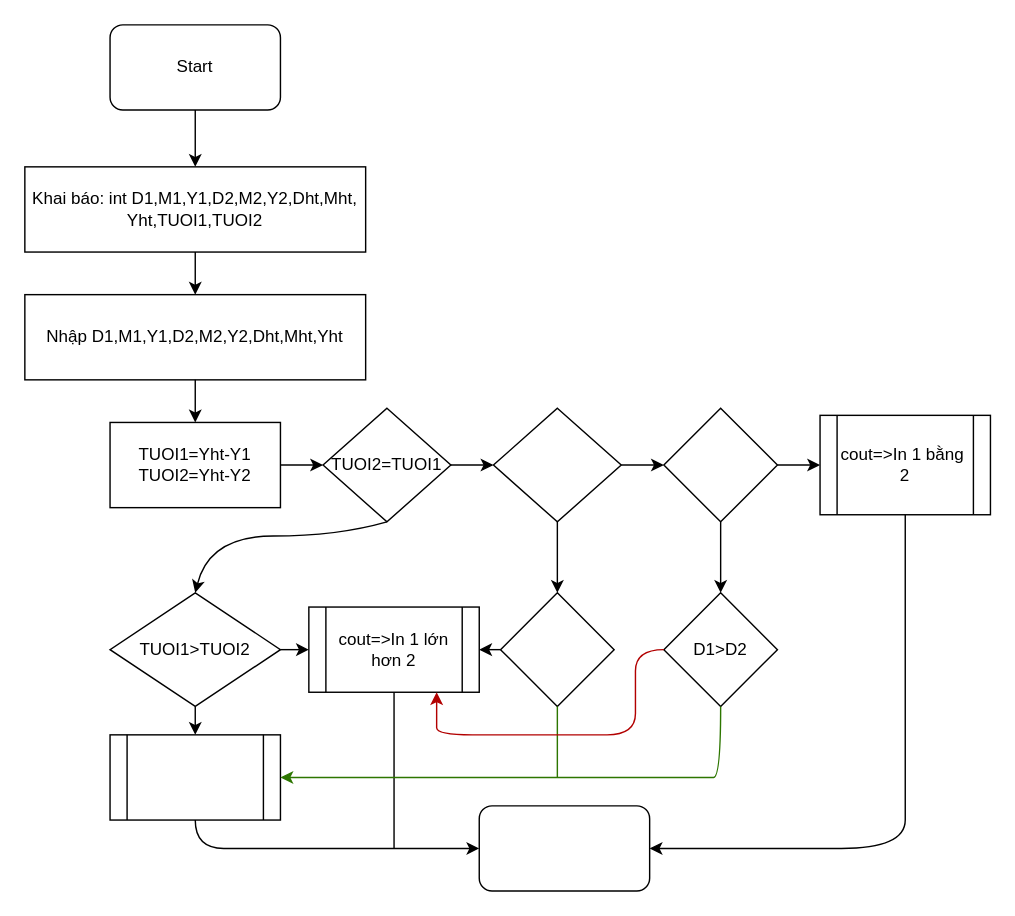
This 1015x916 diagram has some shape labels left out. Each missing label, with the box of its shape:
cout => In 1 nhỏ hơn 2: (109, 733, 280, 820)
D1=D2: (662, 407, 777, 522)
End: (478, 804, 650, 891)
M1=M2: (492, 407, 621, 522)
M1>M2: (499, 591, 614, 706)
